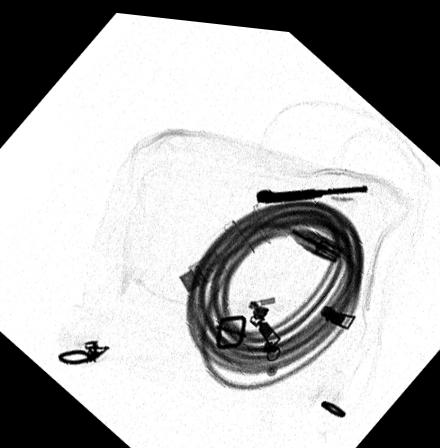Gun: (256, 174, 369, 197)
